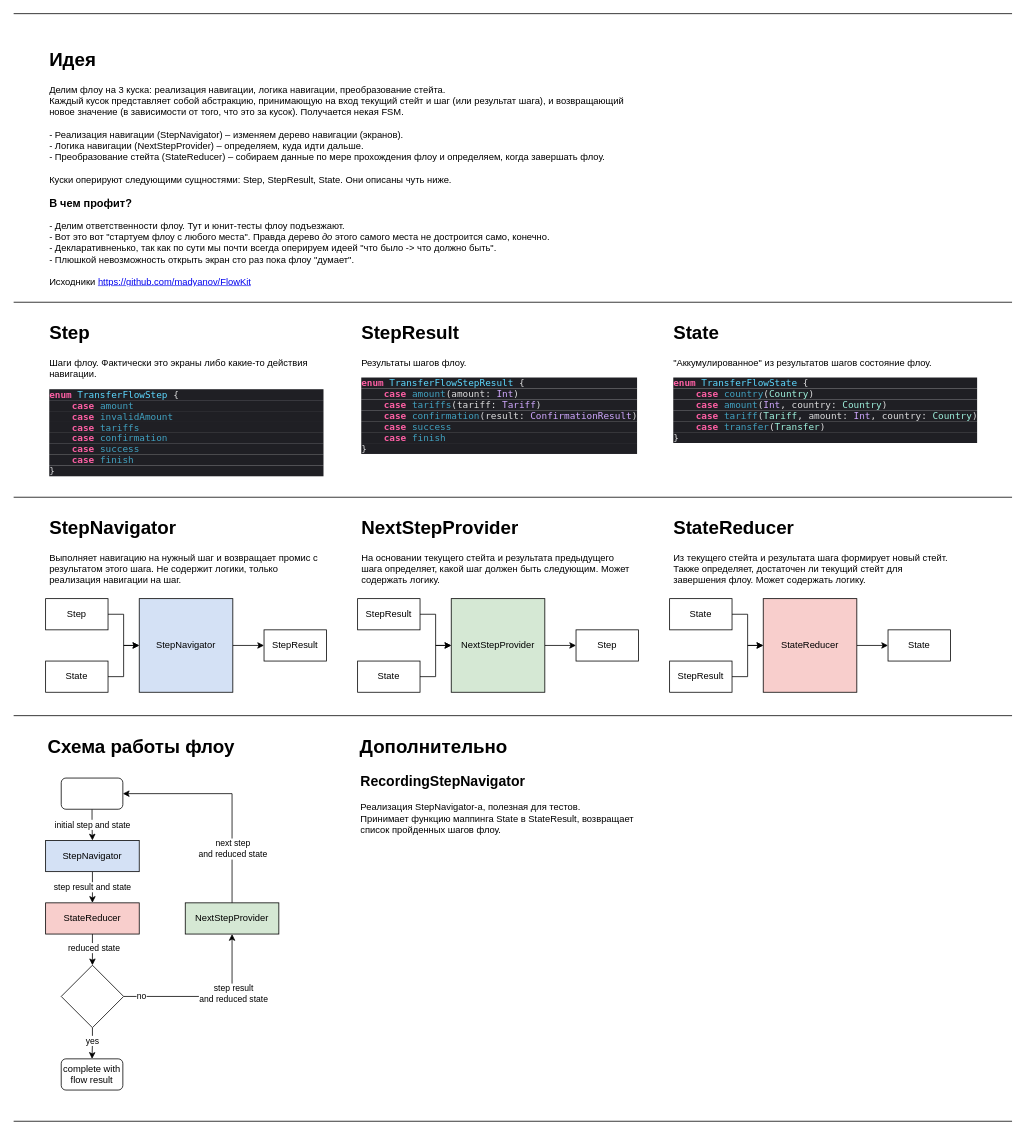
This 1026x1136 diagram has some shape labels left out. Here are the shapes that lost their labels. From the top down, the centre of each, then its label:
At point 91,793: "start".
At point 92,996: "should finish?".
